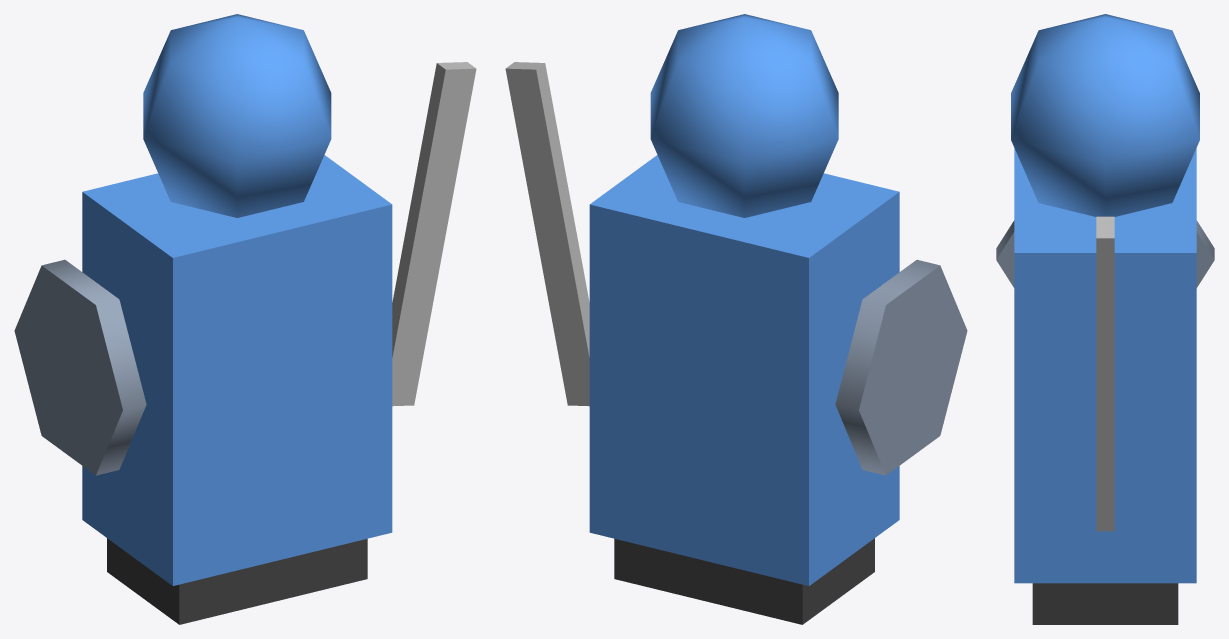
The model's file is warrior.glb.
3 renders of one model, left to right at view 1: azimuth 30°, elevation 25°; view 2: azimuth 150°, elevation 25°; view 3: azimuth 270°, elevation 25°, orthographic.
Parts seen in each view (by area): view 1: node_0, node_2, node_4, node_3, node_1; view 2: node_0, node_2, node_4, node_3, node_1; view 3: node_0, node_2, node_1, node_3, node_4.
Part boxes in pixels (box(x1,y1,x2,y2)): node_0: box(82, 155, 392, 585); node_2: box(143, 14, 331, 217); node_4: box(14, 259, 146, 475); node_3: box(392, 62, 476, 406); node_1: box(107, 538, 367, 624); node_0: box(589, 155, 899, 585); node_2: box(650, 14, 838, 217); node_4: box(835, 259, 967, 475); node_3: box(505, 62, 589, 406); node_1: box(614, 538, 874, 624); node_0: box(1014, 148, 1196, 583); node_2: box(1011, 14, 1199, 216); node_1: box(1032, 583, 1178, 624); node_3: box(1096, 216, 1114, 531); node_4: box(996, 220, 1214, 287).
Size of the model in its own units: 0.2572 by 0.34 by 0.12.
